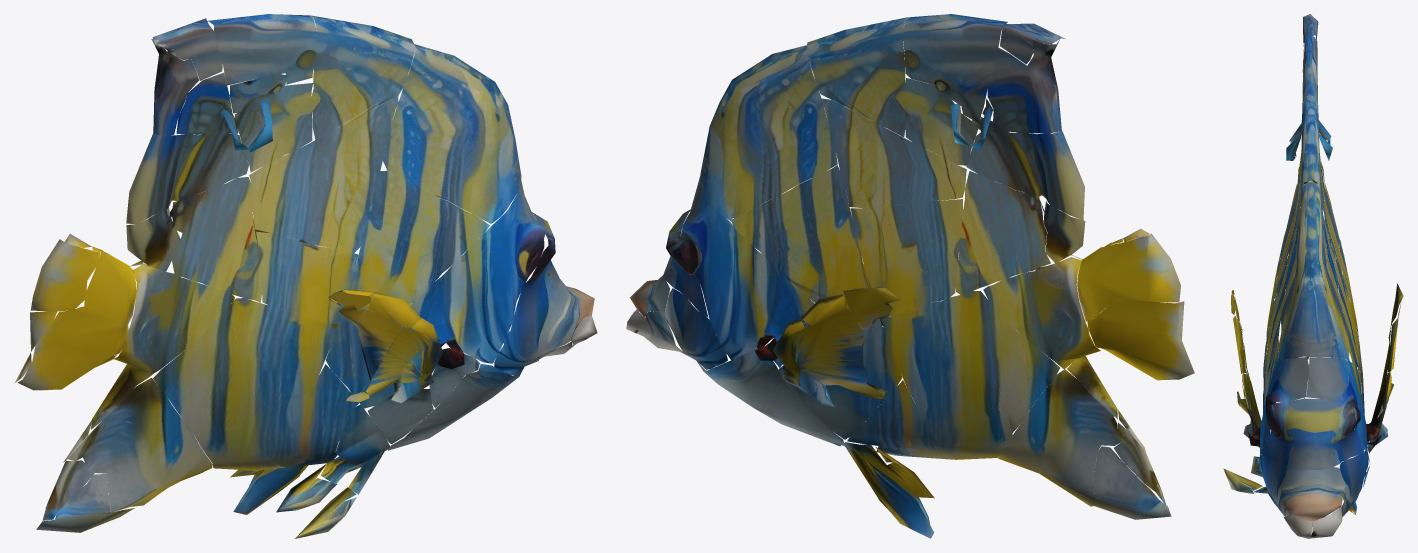
The model's file is trop_angel.glb.
3 views of the same model, side by side, from view 1: azimuth 30°, elevation 25°; view 2: azimuth 150°, elevation 25°; view 3: azimuth 270°, elevation 25° (orthographic). The views are drawn at different scales.
Parts seen in each view (by area): view 1: tripo_node_ca2f4953-84b5-49e5-968c-fa0cdae2ac78; view 2: tripo_node_ca2f4953-84b5-49e5-968c-fa0cdae2ac78; view 3: tripo_node_ca2f4953-84b5-49e5-968c-fa0cdae2ac78.
Boxes of the visible parts, x1,y1,x2,y2 form: tripo_node_ca2f4953-84b5-49e5-968c-fa0cdae2ac78: (15, 14, 597, 538); tripo_node_ca2f4953-84b5-49e5-968c-fa0cdae2ac78: (626, 14, 1194, 538); tripo_node_ca2f4953-84b5-49e5-968c-fa0cdae2ac78: (1223, 14, 1403, 538).
Size of the model in its own units: 1.01 by 0.8842 by 0.3171.
Materials: 1 (1 with a texture image).
